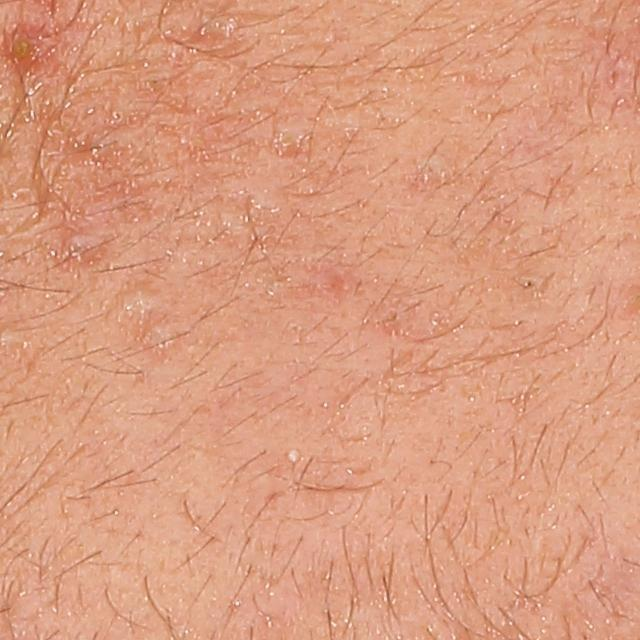comedo: (113, 281, 160, 325), (63, 232, 105, 268), (145, 325, 170, 350)
papule: (7, 21, 54, 71)
